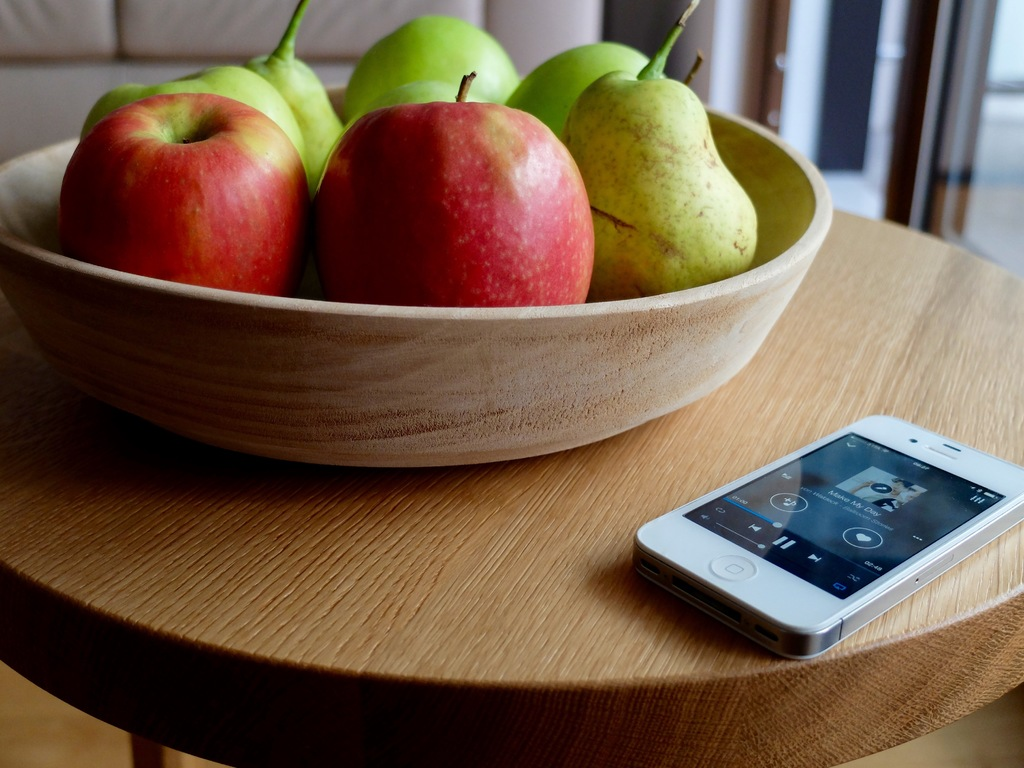Apple: (309, 69, 592, 303), (81, 61, 302, 163), (340, 15, 519, 119), (508, 46, 652, 142), (359, 85, 481, 104)
